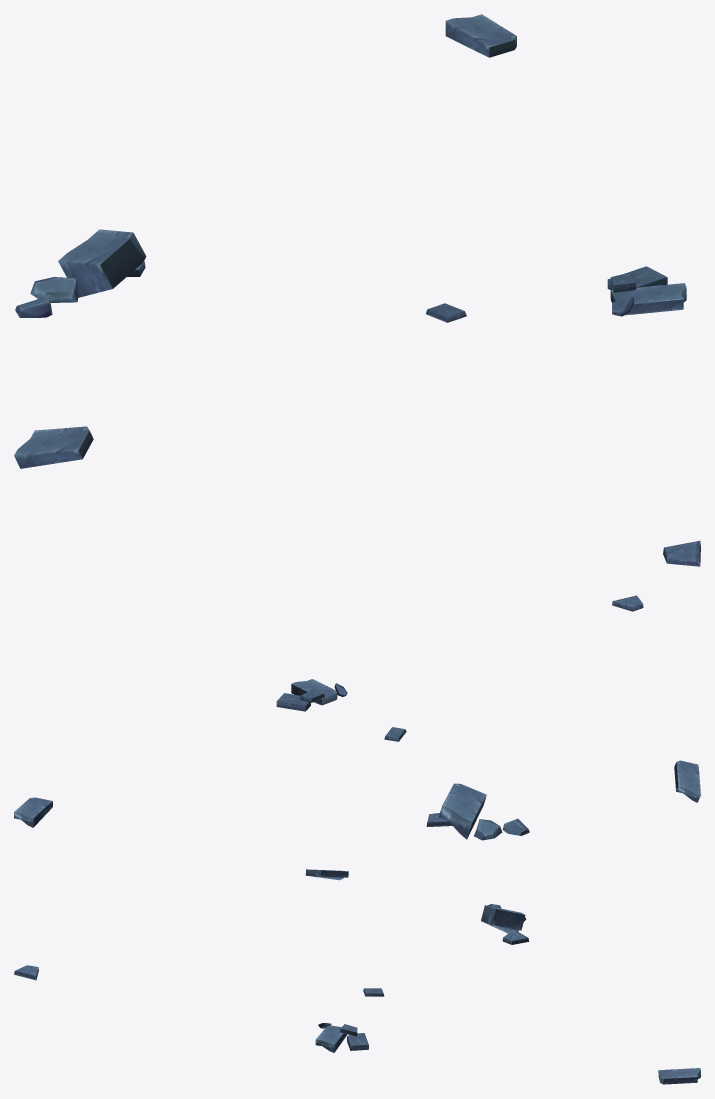
The model's file is Area11_5.fbx.
3 renders of one model, top to bottom at view 1: azimuth 30°, elevation 25°; view 2: azimuth 150°, elevation 25°; view 3: azimuth 270°, elevation 25°, orthographic. The views are drawn at different scales.
Parts seen in each view (by area): view 1: Area11_5; view 2: Area11_5; view 3: Area11_5.
Part boxes in pixels (bbox=[...]): Area11_5: bbox=[14, 14, 700, 566]; Area11_5: bbox=[14, 595, 700, 840]; Area11_5: bbox=[14, 869, 700, 1084].
Bounding box in the file's own units: 3663 × 319 × 4920.
1 material, 1 textured.
